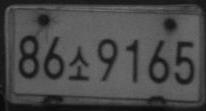1: (123, 38, 145, 83)
5: (174, 41, 195, 85)
6: (147, 38, 170, 84), (43, 36, 65, 79)
8: (17, 34, 40, 79)
9: (97, 37, 118, 82)
소: (68, 45, 89, 80)
